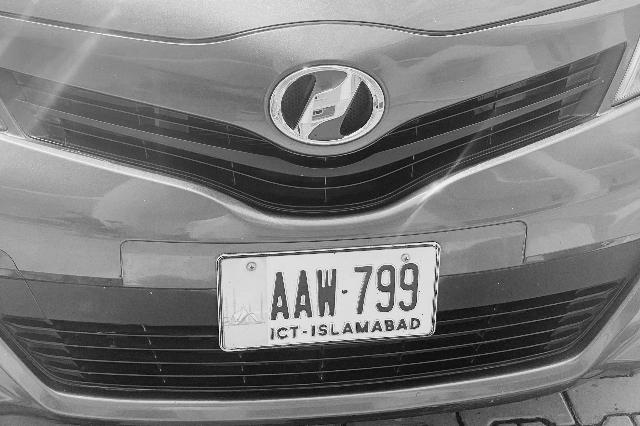Number: (269, 254, 427, 325)
